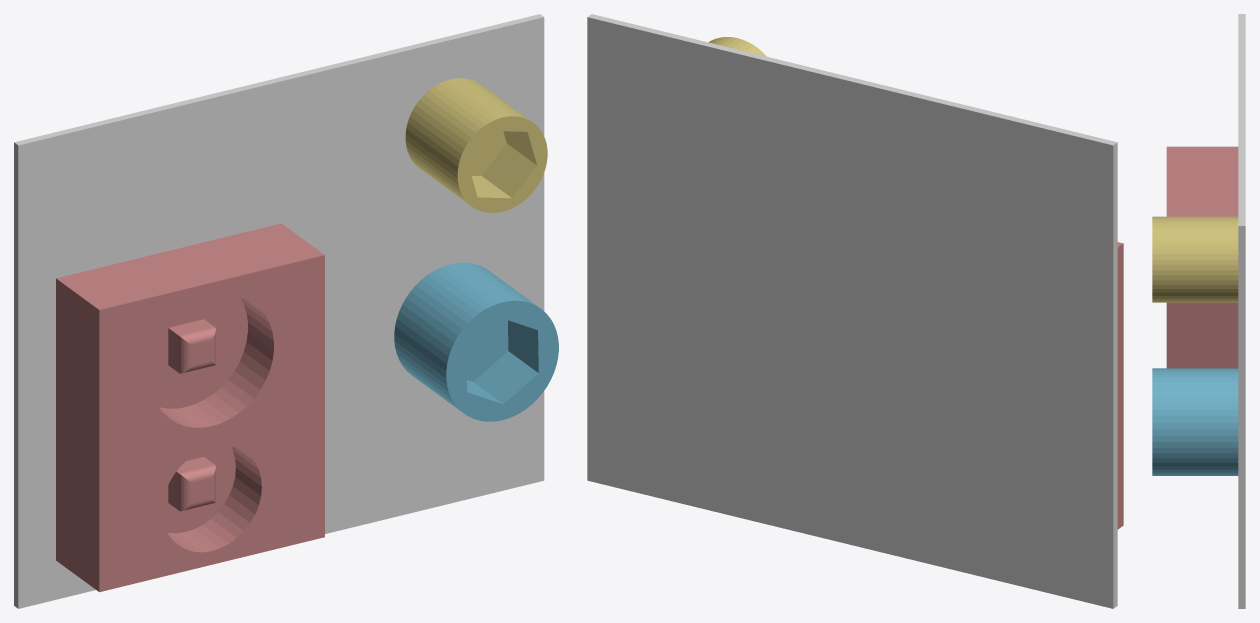
Rendered from pickup_layout.glb.
The picture shows the model from 3 angles, left to right: view 1: azimuth 30°, elevation 25°; view 2: azimuth 150°, elevation 25°; view 3: azimuth 270°, elevation 25°; orthographic projection. The views are drawn at different scales.
Visible parts, largest first — view 1: world, 0.obj, 2.obj, 1.obj; view 2: world, 0.obj; view 3: 0.obj, 2.obj, 1.obj, world.
Part boxes in pixels (box(x1,y1,x2,y2)): world: box(14, 14, 544, 608); 0.obj: box(56, 223, 324, 592); 2.obj: box(394, 262, 558, 421); 1.obj: box(405, 78, 547, 212); world: box(587, 14, 1117, 608); 0.obj: box(1117, 242, 1123, 529); 0.obj: box(1166, 146, 1238, 368); 2.obj: box(1152, 368, 1238, 475); 1.obj: box(1152, 216, 1238, 302); world: box(1238, 14, 1245, 608).
Size of the model in its own units: 14 by 11.79 by 2.6.
